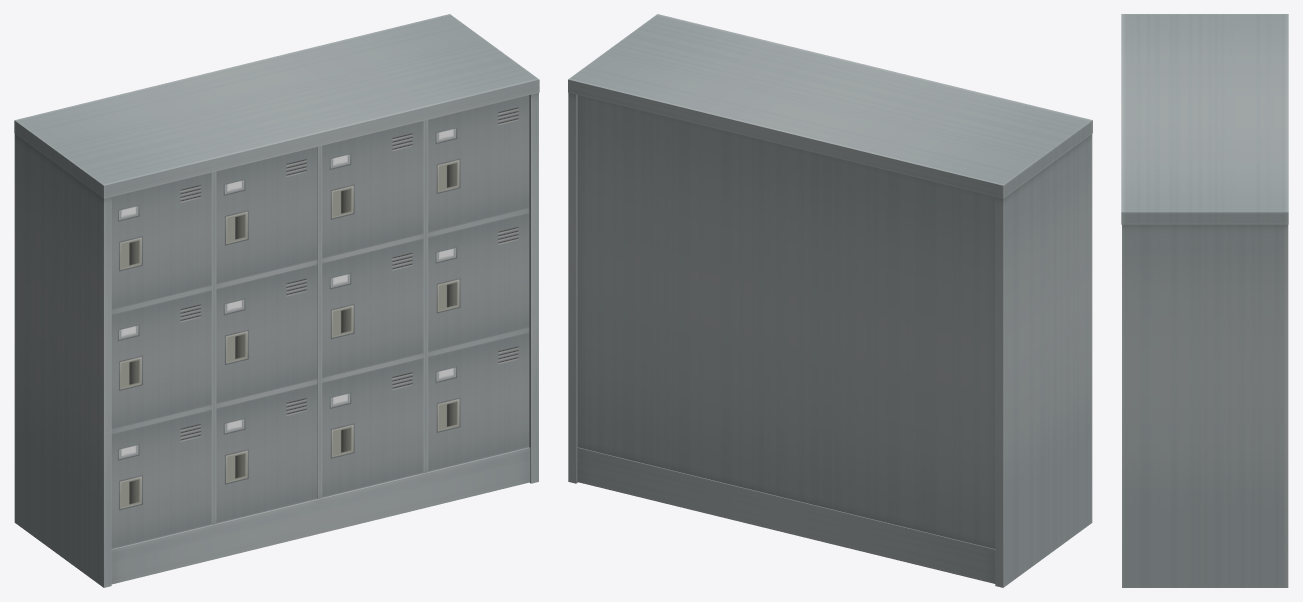
The model's file is set_shoecupboard_a_07.fbx.
The picture shows the model from 3 angles, left to right: view 1: azimuth 30°, elevation 25°; view 2: azimuth 150°, elevation 25°; view 3: azimuth 270°, elevation 25°; orthographic projection. The views are drawn at different scales.
Visible parts, largest first — view 1: shoecupboard_a_07, door_a_07_05, door_a_07_12, door_a_07_11, door_a_07_06, door_a_07_08, door_a_07_09, door_a_07_02, door_a_07_03, door_a_07_04, door_a_07_10, door_a_07_07 (+1 smaller); view 2: shoecupboard_a_07; view 3: shoecupboard_a_07.
Boxes of the visible parts, x1=… form: shoecupboard_a_07: x1=14, y1=14, x2=539, y2=587; door_a_07_05: x1=216, y1=264, x2=317, y2=403; door_a_07_12: x1=428, y1=332, x2=529, y2=471; door_a_07_11: x1=428, y1=213, x2=529, y2=352; door_a_07_06: x1=216, y1=384, x2=317, y2=523; door_a_07_08: x1=322, y1=238, x2=423, y2=378; door_a_07_09: x1=322, y1=358, x2=423, y2=497; door_a_07_02: x1=111, y1=290, x2=211, y2=429; door_a_07_03: x1=111, y1=409, x2=211, y2=548; door_a_07_04: x1=216, y1=147, x2=317, y2=284; door_a_07_10: x1=428, y1=95, x2=529, y2=232; door_a_07_07: x1=322, y1=121, x2=423, y2=258; shoecupboard_a_07: x1=568, y1=14, x2=1092, y2=587; shoecupboard_a_07: x1=1121, y1=14, x2=1288, y2=587.
Size of the model in its own units: 105 by 92.62 by 37.38.
